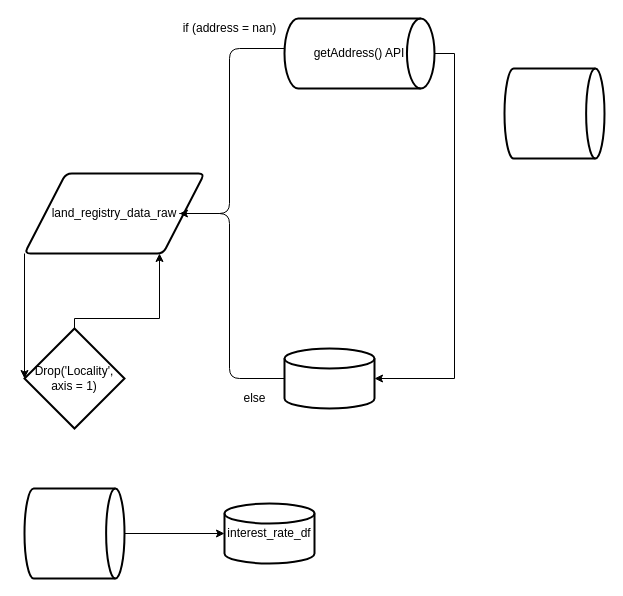
This 623x596 diagram has some shape labels left out. The shapes that lost their labels are listed below. From the top down, each one's box as (x1, y1, x2, y2) in pixels, then its label:
(283, 347, 375, 409): time_series_df
(23, 487, 125, 579): nasdaq interest rate API
